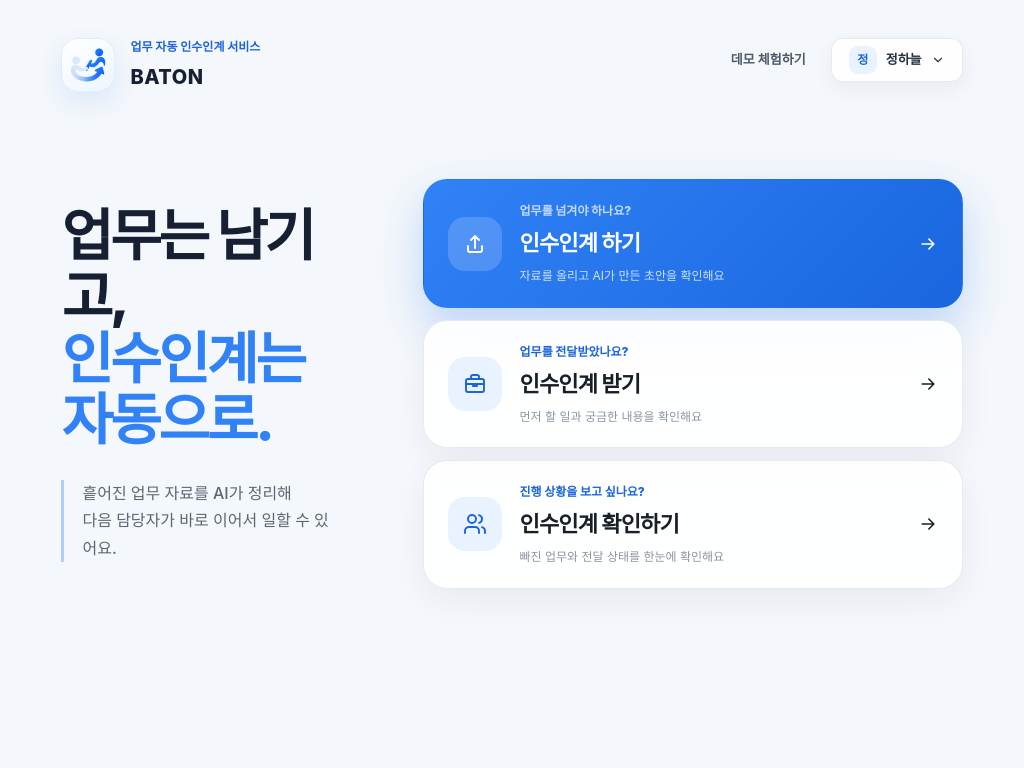
Test case: HomePage › shows API profile metadata for a restored session
The image size is (1024, 768).
Click the button "정 정하늘" at (897, 60), box [831,38,963,82]
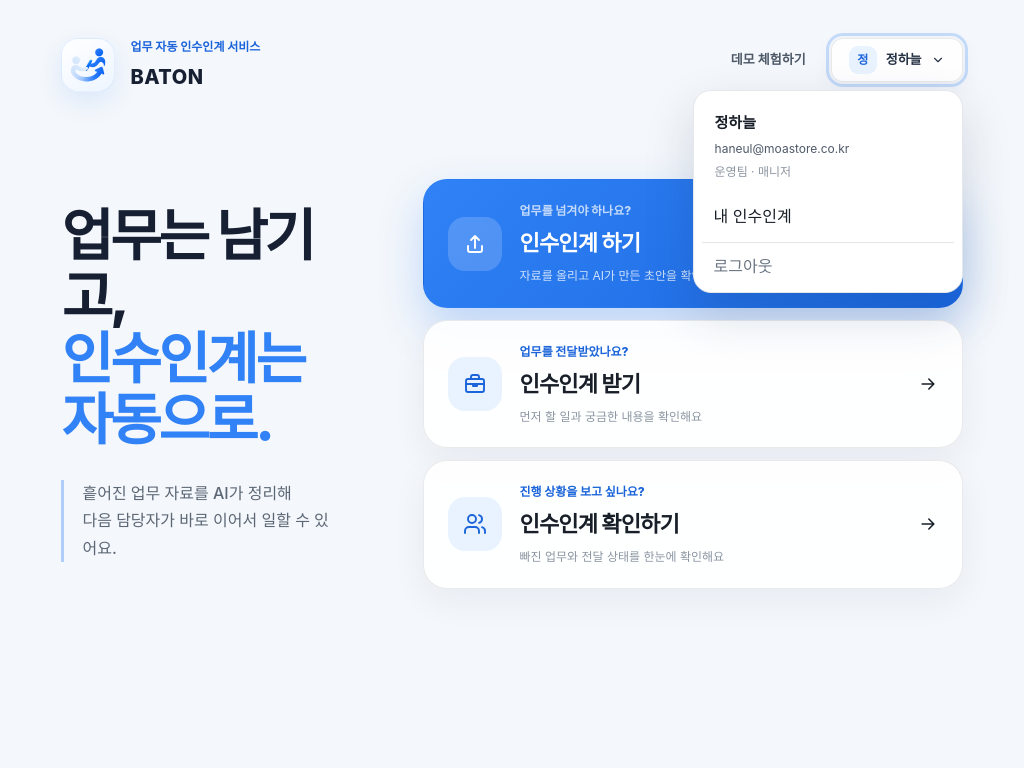
Expected: the text "haneul@moastore.co.kr" is shown, [715,140,849,156]
Expected: the text "운영팀 · 매니저" is shown, [715,164,791,178]
Expected: the button "로그아웃" is shown, [702,242,954,284]
